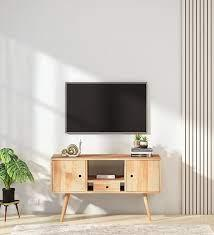TV: (59, 79, 152, 136)
console: (45, 154, 166, 223)
table: (0, 200, 21, 224)
